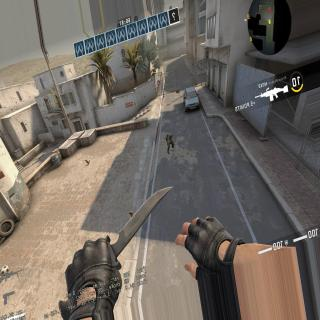CT-Body: (165, 132, 175, 152)
CT-Head: (169, 133, 173, 138)
